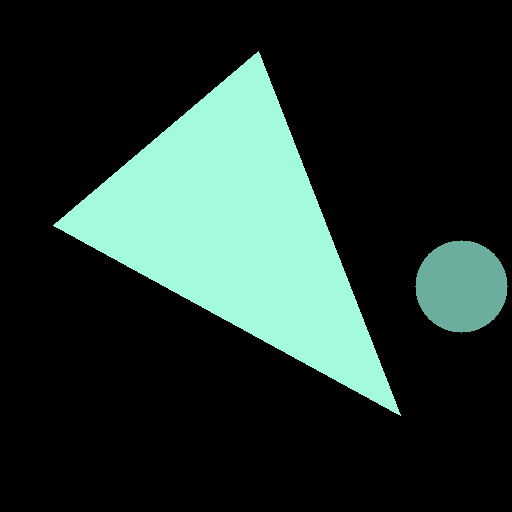circle: (415, 240, 507, 332)
triangle: (53, 51, 400, 415)
